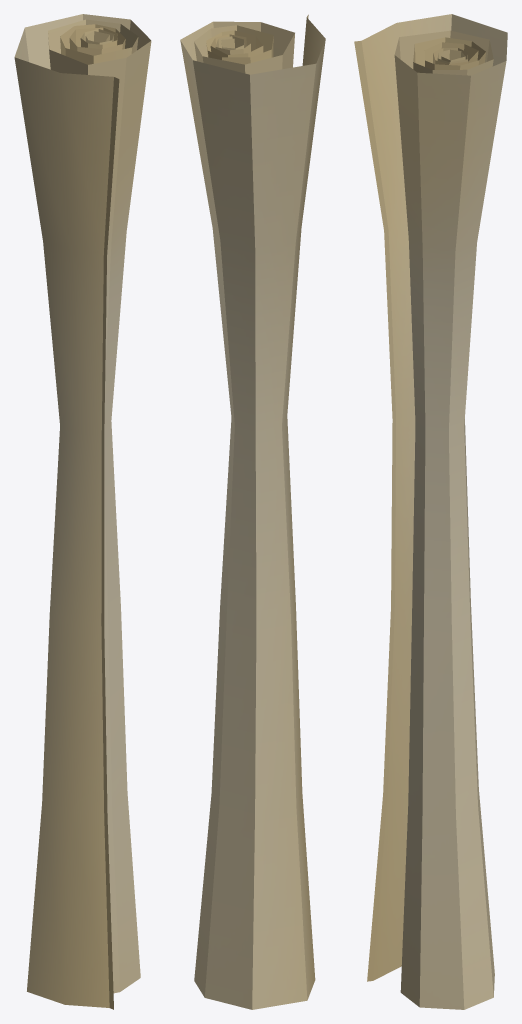
File: paper3.fbx
3 renders of one model, left to right at view 1: azimuth 30°, elevation 25°; view 2: azimuth 150°, elevation 25°; view 3: azimuth 270°, elevation 25°, orthographic.
Visible parts, largest first — view 1: PaperPlane3; view 2: PaperPlane3; view 3: PaperPlane3.
Part boxes in pixels (left/top/right/bottom): PaperPlane3: left=14, top=14, right=151, bottom=1009; PaperPlane3: left=180, top=14, right=325, bottom=1009; PaperPlane3: left=354, top=14, right=507, bottom=1009.
Bounding box in the file's own units: 0.5995 × 4.26 × 0.6314.
Materials: 1 (1 with a texture image).
